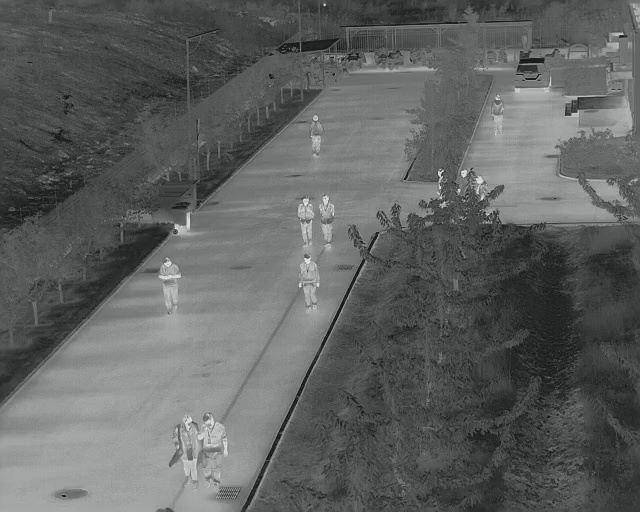person: (167, 414, 204, 486), (198, 412, 228, 487), (296, 253, 321, 313), (158, 256, 182, 317), (317, 193, 336, 249), (296, 196, 314, 249), (307, 114, 325, 159), (490, 94, 506, 137)
vehicle: (512, 57, 552, 94)
